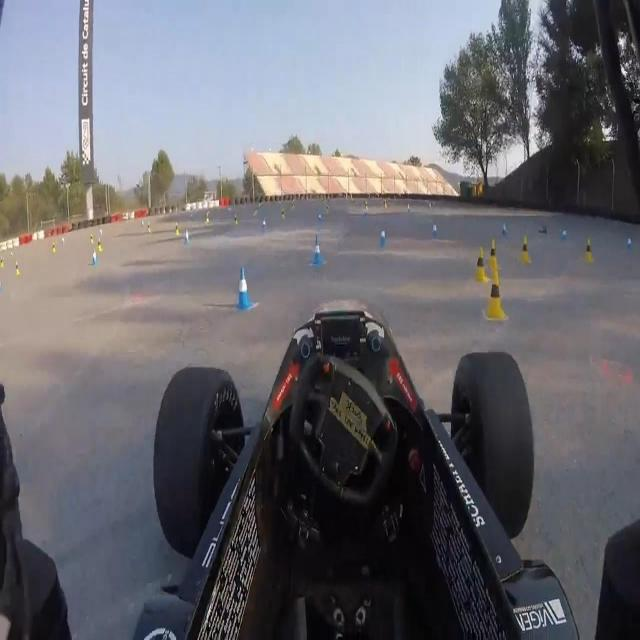blue_cone: (234, 265, 252, 312), (310, 235, 324, 269), (560, 226, 569, 248), (501, 219, 509, 239), (380, 229, 387, 251), (430, 220, 439, 237), (626, 236, 632, 255), (184, 228, 190, 246), (92, 251, 99, 266)
yellow_cone: (485, 268, 507, 322), (475, 245, 488, 284), (518, 234, 531, 267), (488, 238, 499, 274), (582, 238, 594, 264), (14, 260, 21, 276), (96, 238, 102, 254), (176, 222, 180, 236), (234, 214, 238, 227), (52, 241, 56, 253)
